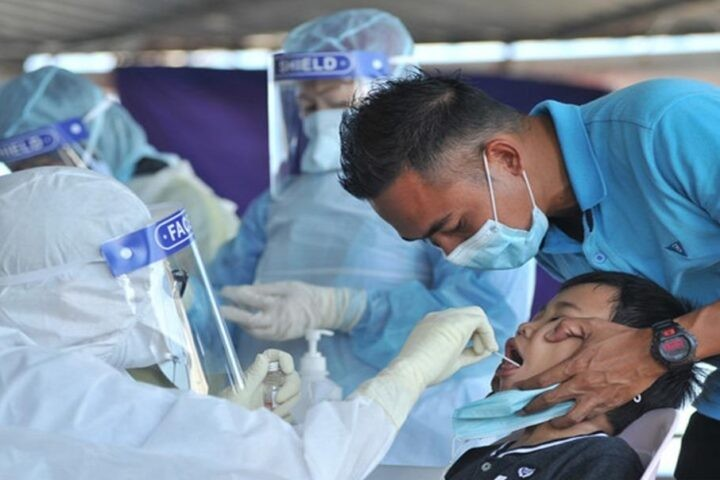Face_Shield: (101, 205, 224, 408), (274, 52, 363, 154), (1, 112, 99, 185)
Gloves: (355, 298, 500, 424), (219, 272, 362, 343)
mask_weared_incorrect: (484, 289, 618, 440)
with_mask: (418, 200, 554, 278), (296, 88, 360, 174)
